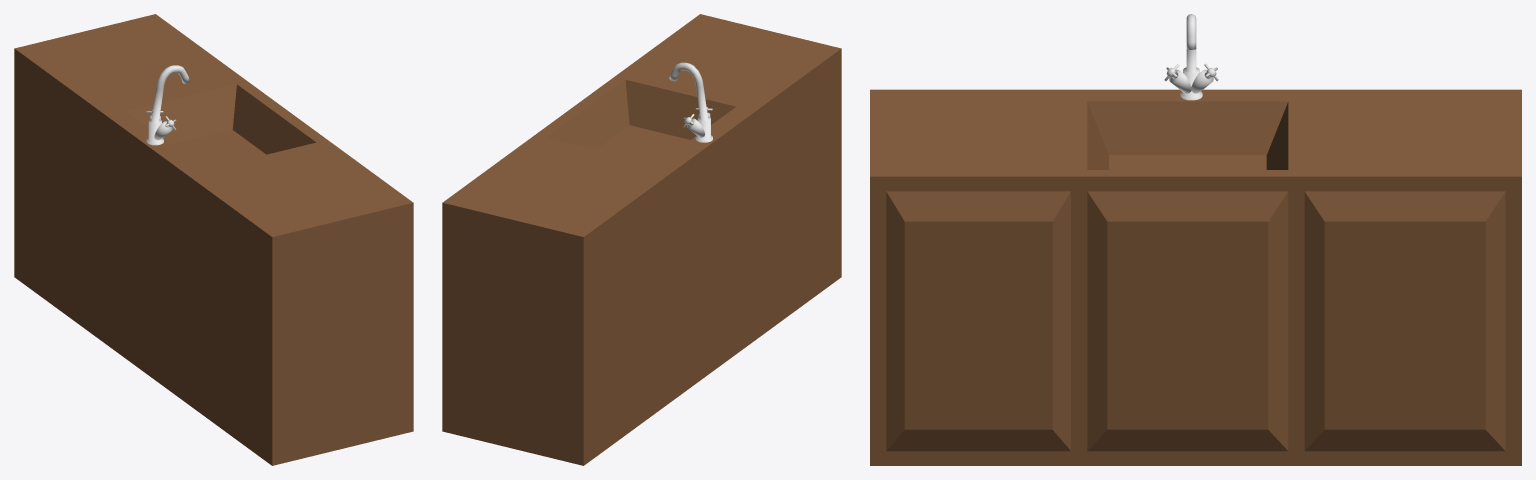
The model's file is cabinet.fbx.
3 views of the same model, side by side, from view 1: azimuth 30°, elevation 25°; view 2: azimuth 150°, elevation 25°; view 3: azimuth 270°, elevation 25° (orthographic). The views are drawn at different scales.
Visible parts, largest first — view 1: Cylinder.001; view 2: Cylinder.001; view 3: Cylinder.001.
Boxes of the visible parts, x1,y1,x2,y2 form: Cylinder.001: (14,14,413,465); Cylinder.001: (442,14,841,465); Cylinder.001: (870,14,1521,465).
Bounding box in the file's own units: 201 × 129 × 66.68.
